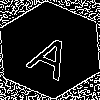A: (25, 25, 82, 81)
